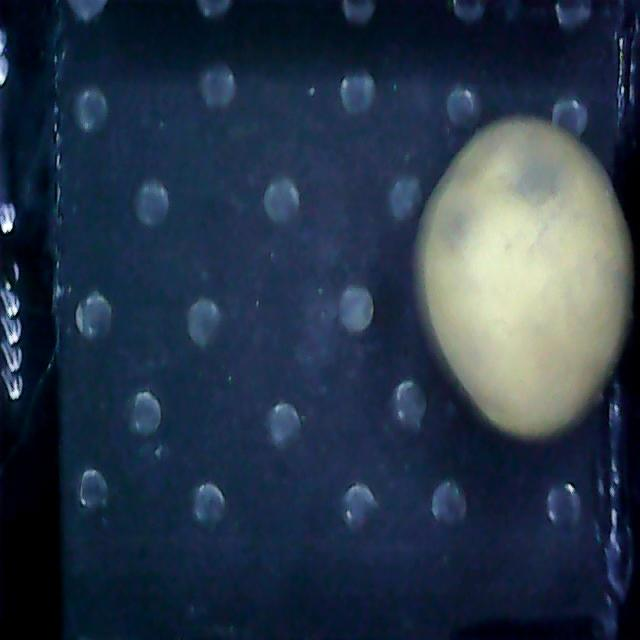-Kitchen waste - potato-: (416, 114, 632, 438)
